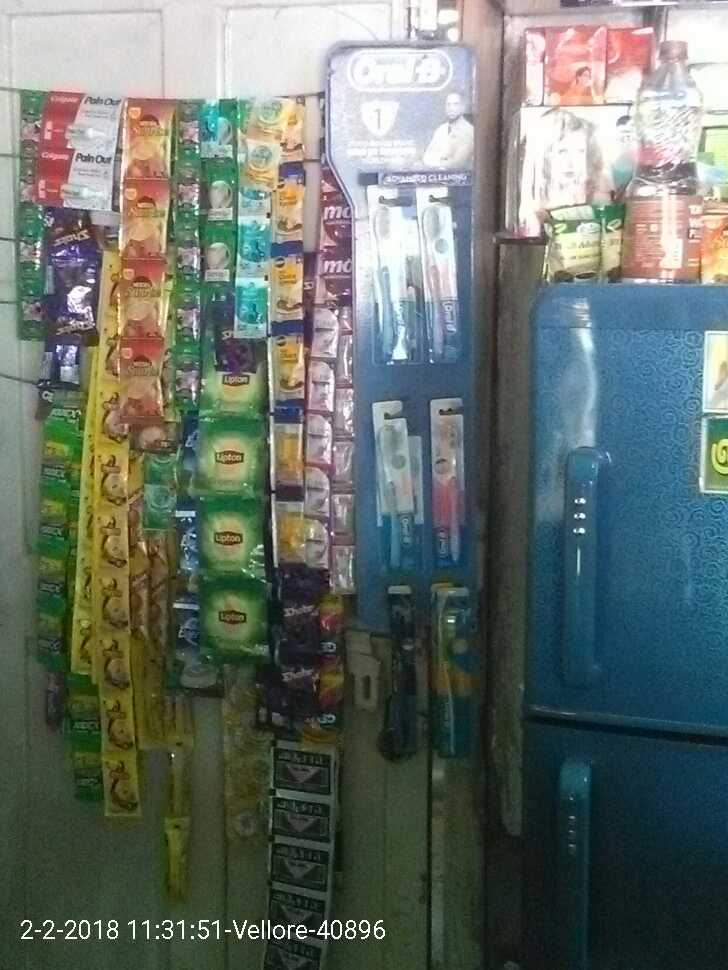oralb: (370, 414, 417, 579), (414, 207, 461, 368), (368, 205, 410, 366), (435, 423, 470, 561)
